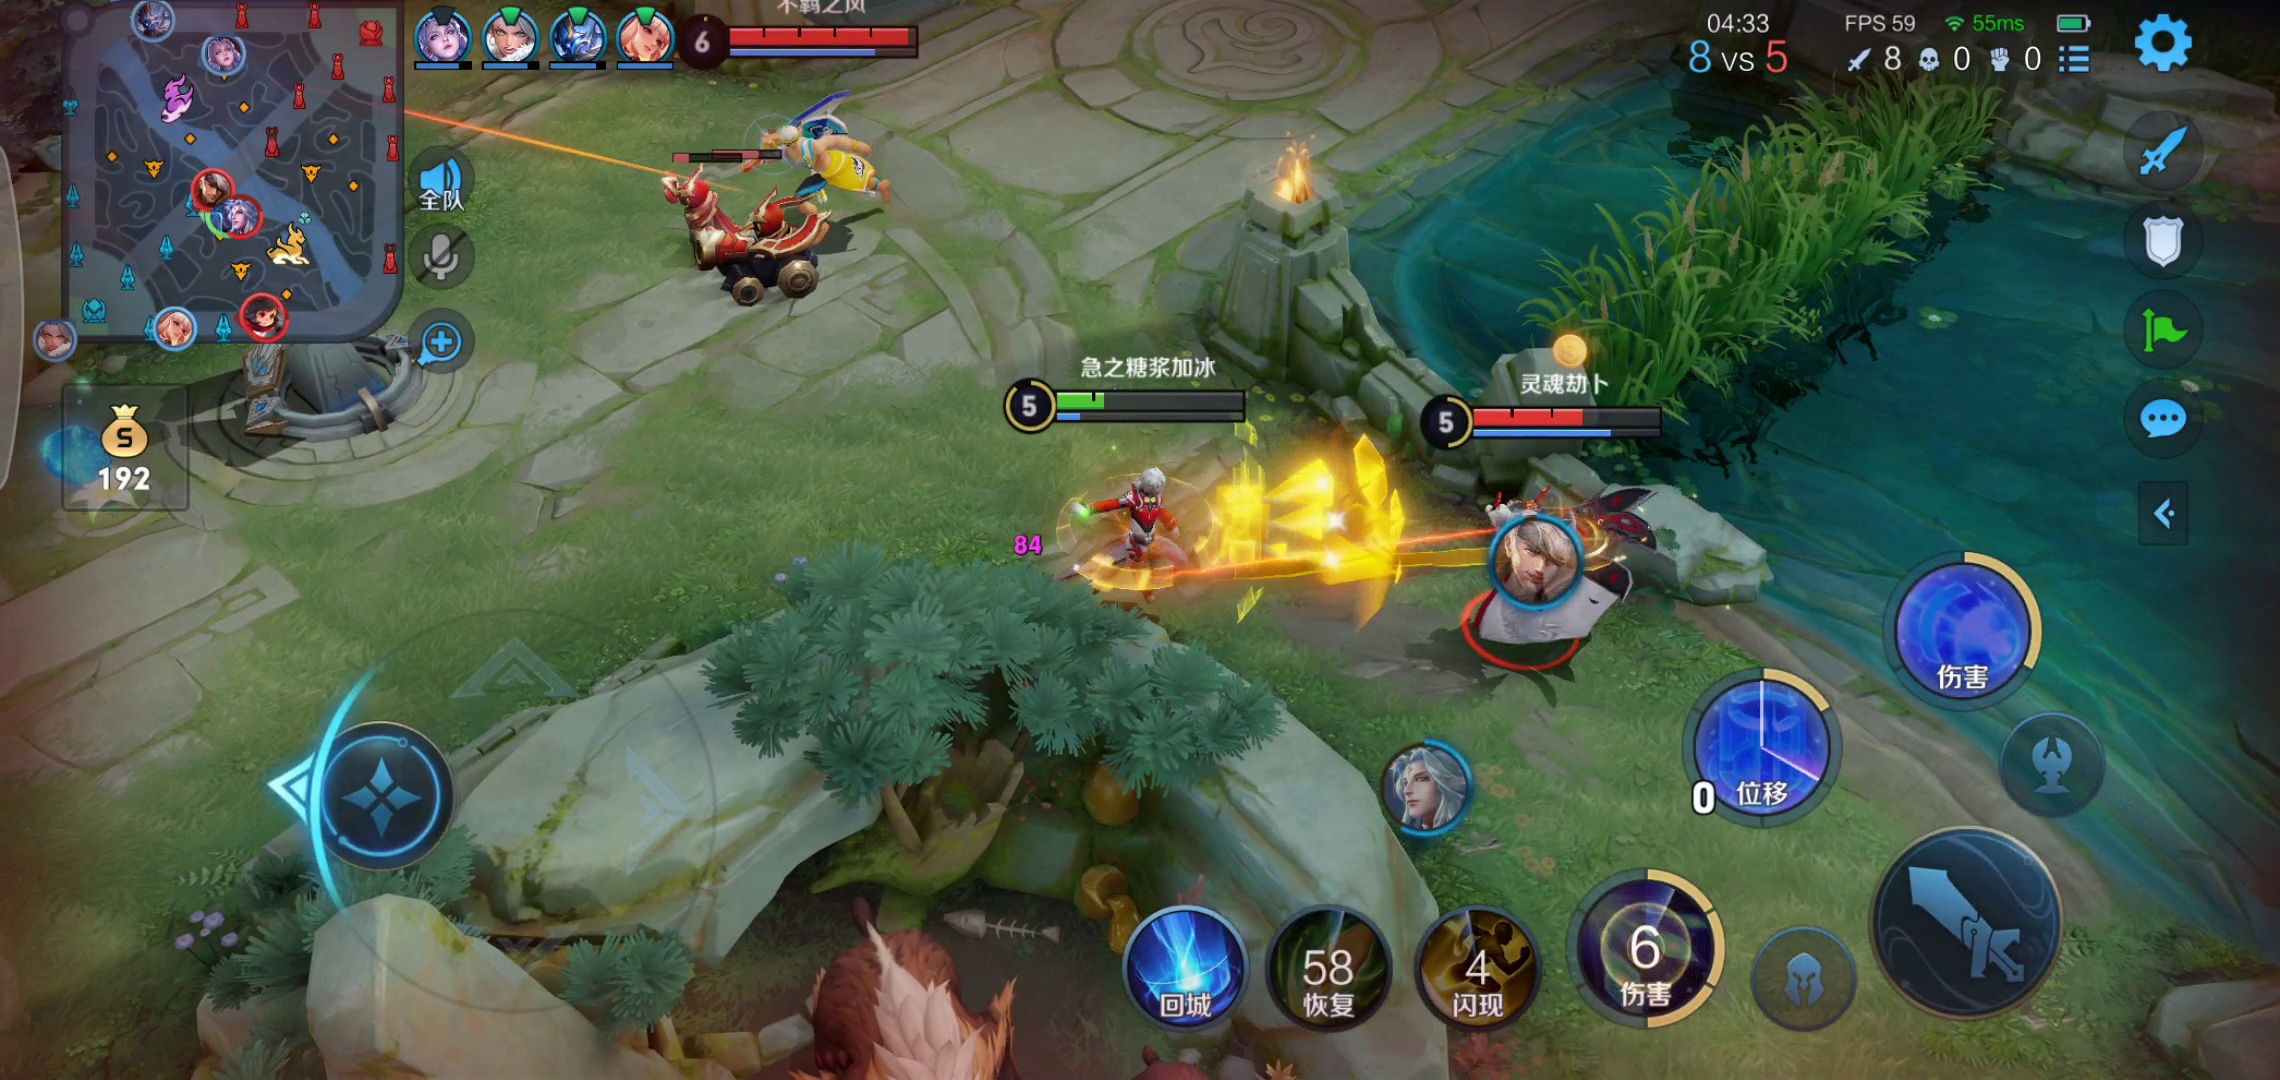grass: (1454, 86, 2001, 420)
hero: (1453, 485, 1645, 677), (1048, 443, 1223, 612), (768, 116, 884, 205)
soldier: (707, 212, 835, 310), (653, 169, 734, 257)
tower: (228, 329, 448, 430)
wild_monster: (779, 898, 1035, 1080)
